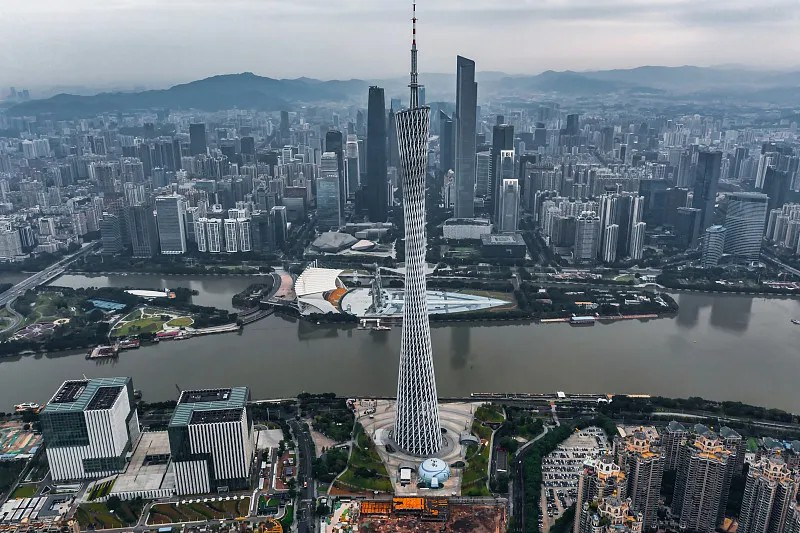Canton: (388, 1, 444, 455)
